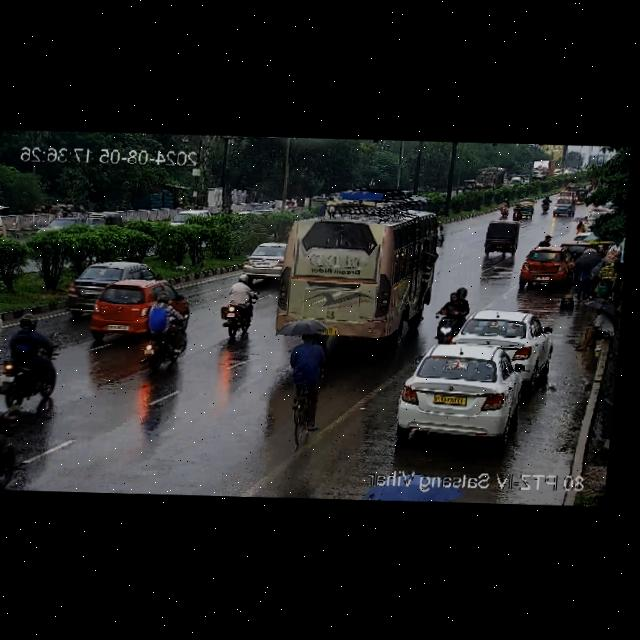bus: (272, 207, 437, 342)
car: (397, 338, 538, 440), (442, 308, 553, 369), (80, 279, 185, 341), (62, 260, 172, 307), (32, 210, 98, 242), (239, 240, 288, 281), (519, 250, 573, 285), (480, 221, 520, 254), (168, 204, 213, 229), (551, 194, 576, 217), (0, 286, 6, 368), (511, 201, 535, 218)
motorcycle: (0, 312, 62, 412), (281, 330, 330, 422), (136, 295, 195, 371), (0, 366, 27, 490), (220, 276, 261, 334), (435, 286, 472, 340), (495, 199, 510, 214), (539, 197, 552, 212)
person: (574, 307, 620, 351), (530, 232, 554, 252)
truck: (527, 155, 558, 183), (471, 173, 501, 190)
